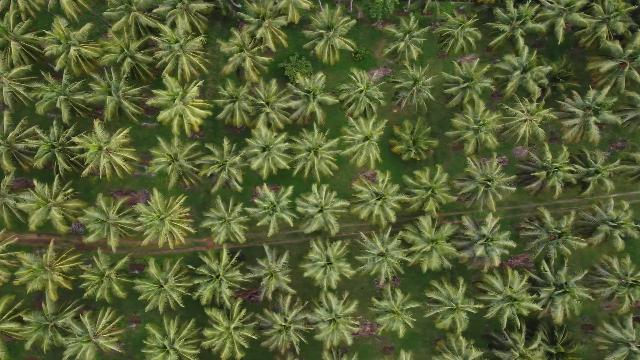trees: (553, 87, 635, 148), (12, 241, 90, 302), (524, 257, 593, 325), (10, 178, 91, 235), (9, 299, 87, 357), (473, 269, 543, 333), (188, 248, 257, 312), (72, 121, 145, 181), (445, 213, 519, 271), (517, 207, 589, 266), (97, 24, 163, 87), (131, 191, 199, 252), (396, 217, 463, 278), (85, 68, 153, 127), (150, 26, 215, 87), (150, 78, 216, 138), (46, 19, 110, 80), (515, 144, 583, 201), (451, 156, 520, 212), (354, 228, 417, 289), (78, 194, 144, 252), (25, 120, 91, 178), (302, 5, 362, 68), (132, 258, 198, 315), (260, 297, 320, 359), (35, 70, 100, 127), (421, 278, 482, 338), (148, 134, 211, 191), (307, 294, 365, 355), (219, 30, 280, 87), (200, 304, 262, 360), (496, 97, 561, 150), (581, 253, 640, 311), (77, 252, 139, 307), (573, 199, 639, 250), (350, 172, 409, 228), (192, 138, 252, 193), (567, 148, 633, 198), (287, 124, 343, 182), (242, 125, 300, 181), (301, 238, 357, 295), (492, 51, 551, 105), (446, 106, 507, 158), (339, 114, 393, 172), (398, 165, 458, 217), (440, 59, 497, 113), (486, 4, 546, 55), (247, 185, 303, 239), (245, 79, 299, 134), (201, 195, 257, 248), (369, 286, 423, 340), (378, 15, 433, 68), (247, 247, 298, 304), (283, 74, 335, 129), (142, 316, 206, 360), (338, 71, 391, 124), (295, 185, 348, 238), (389, 63, 442, 115), (213, 80, 264, 131), (435, 12, 486, 58), (389, 117, 439, 163), (589, 314, 640, 357)
